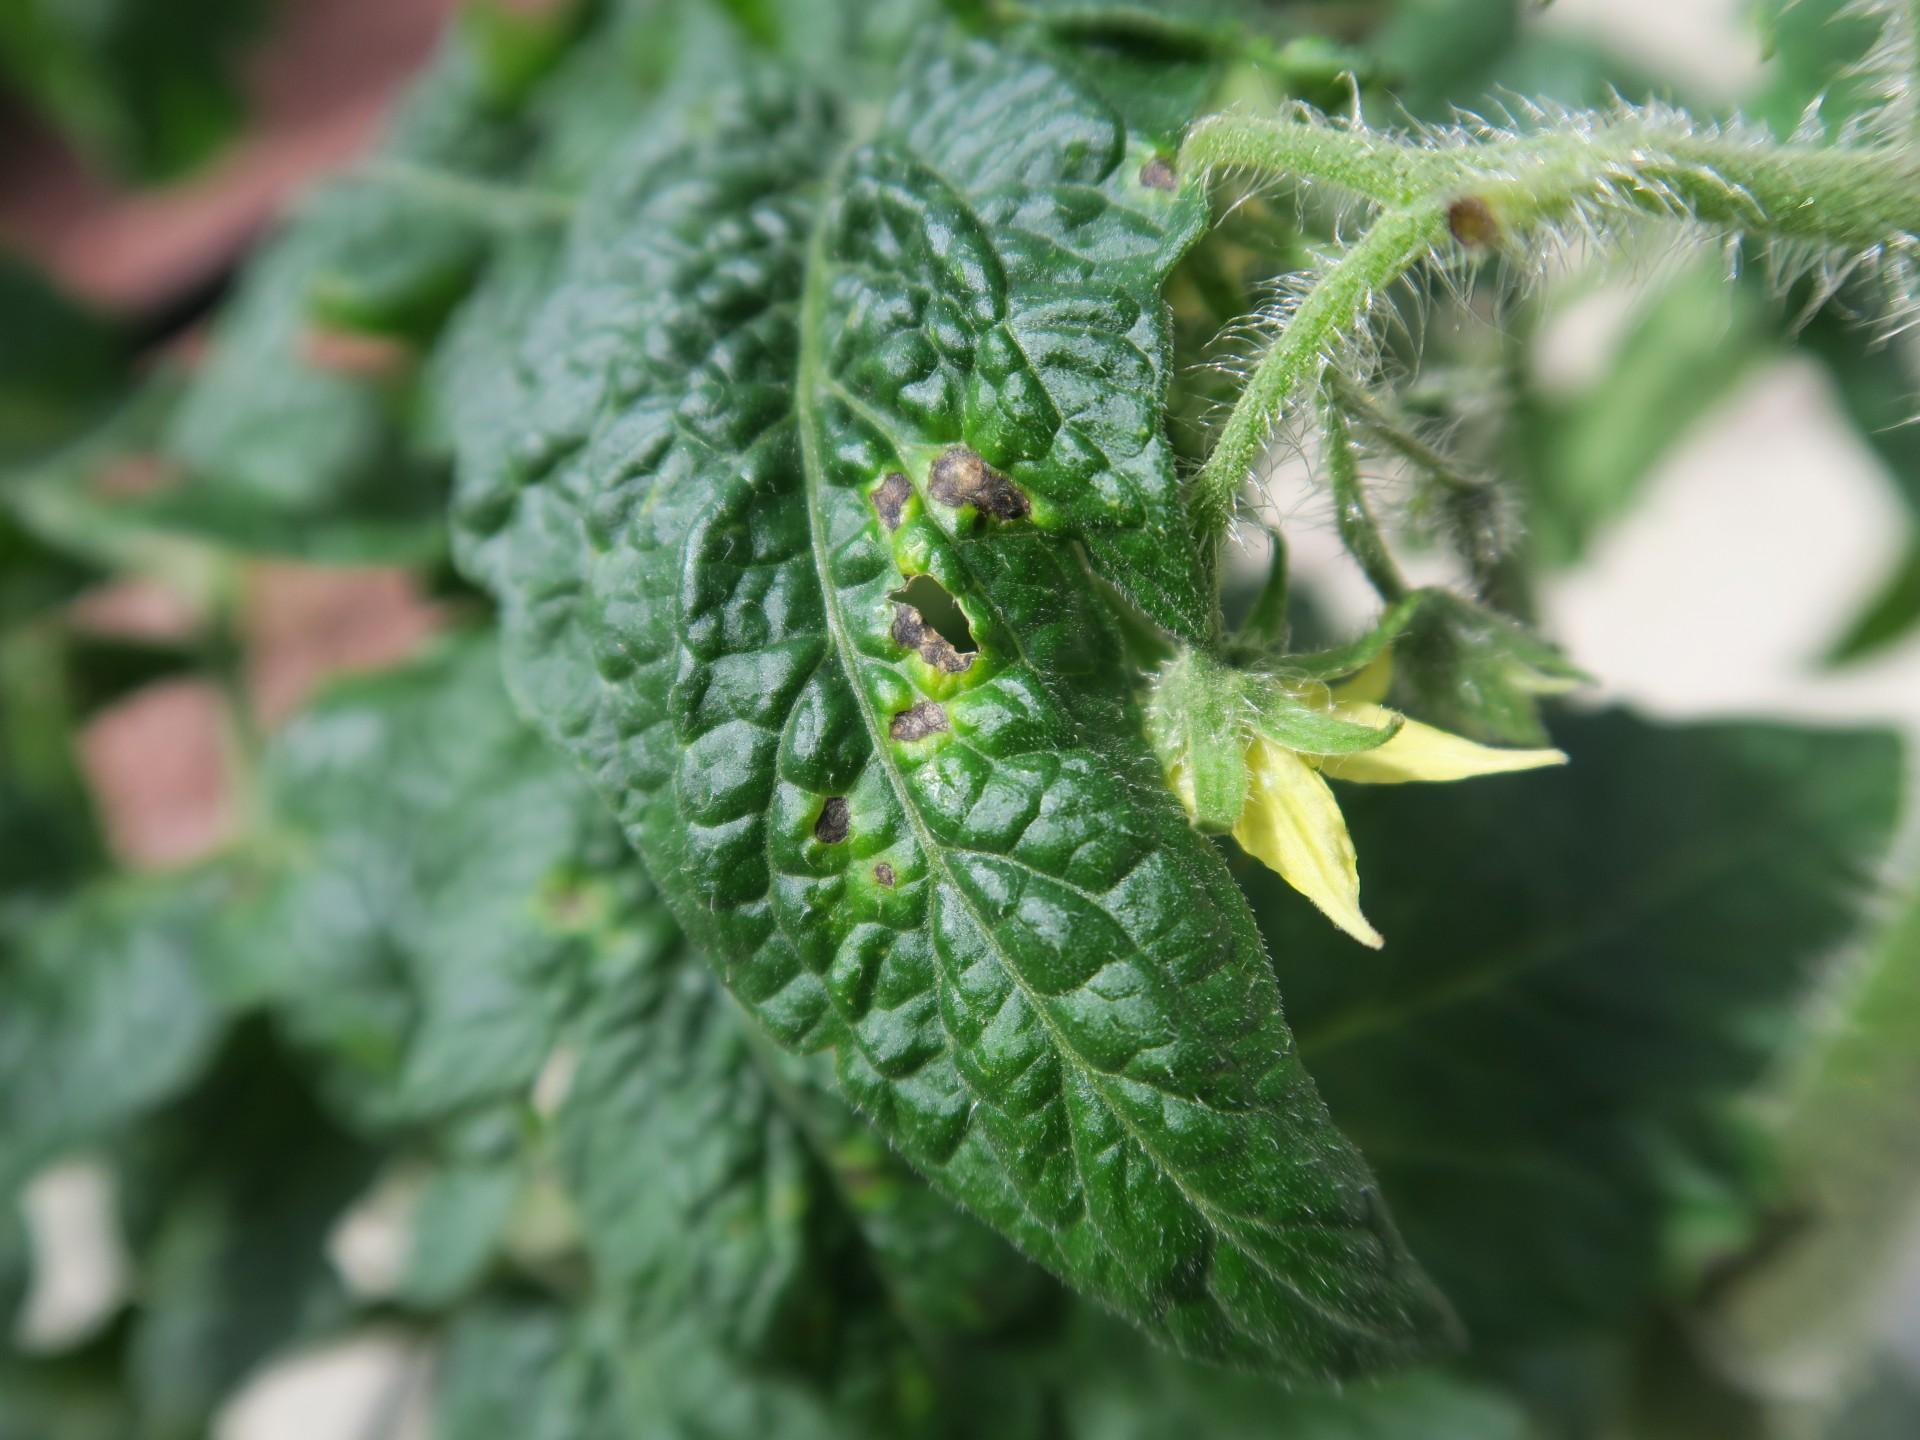Tomato leaf late blight: (497, 51, 1430, 1398)
